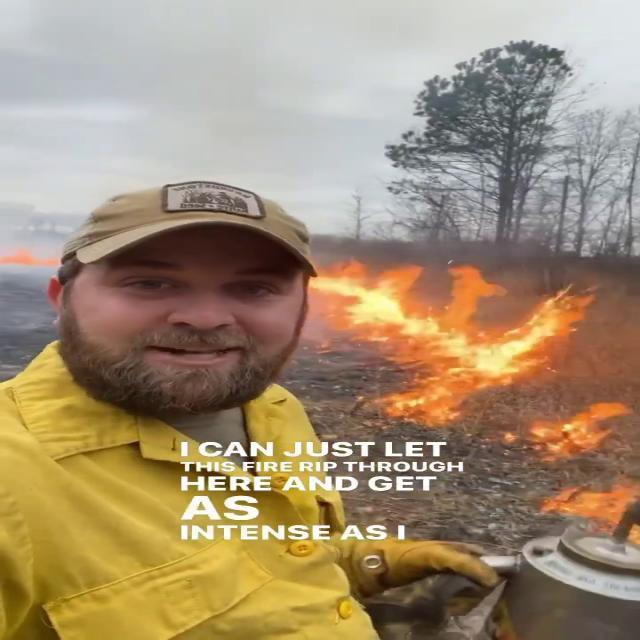Fire: (298, 258, 600, 422)
